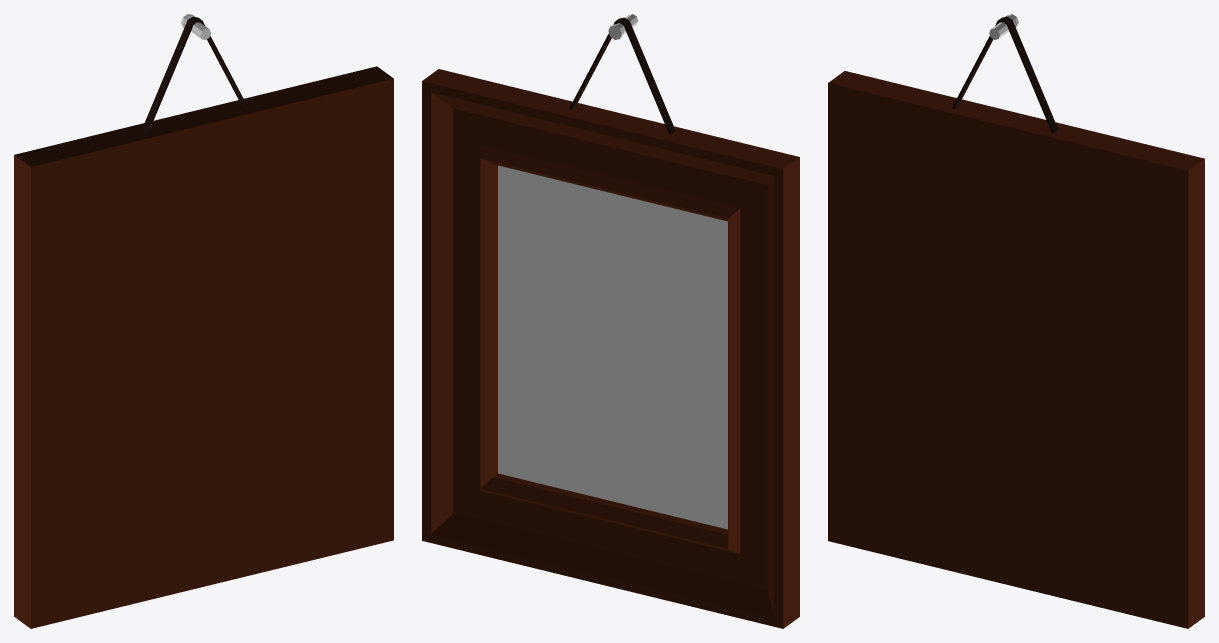
The model's file is Picture Frame 8.fbx.
3 views of the same model, side by side, from view 1: azimuth 30°, elevation 25°; view 2: azimuth 150°, elevation 25°; view 3: azimuth 330°, elevation 25° (orthographic).
Visible parts, largest first — view 1: Node 0; view 2: Node 0; view 3: Node 0.
Part boxes in pixels (<box>): Node 0: <box>14,14,393,628</box>; Node 0: <box>422,14,799,628</box>; Node 0: <box>828,14,1204,628</box>.
Size of the model in its own units: 0.0442 by 0.676 by 0.4554.
